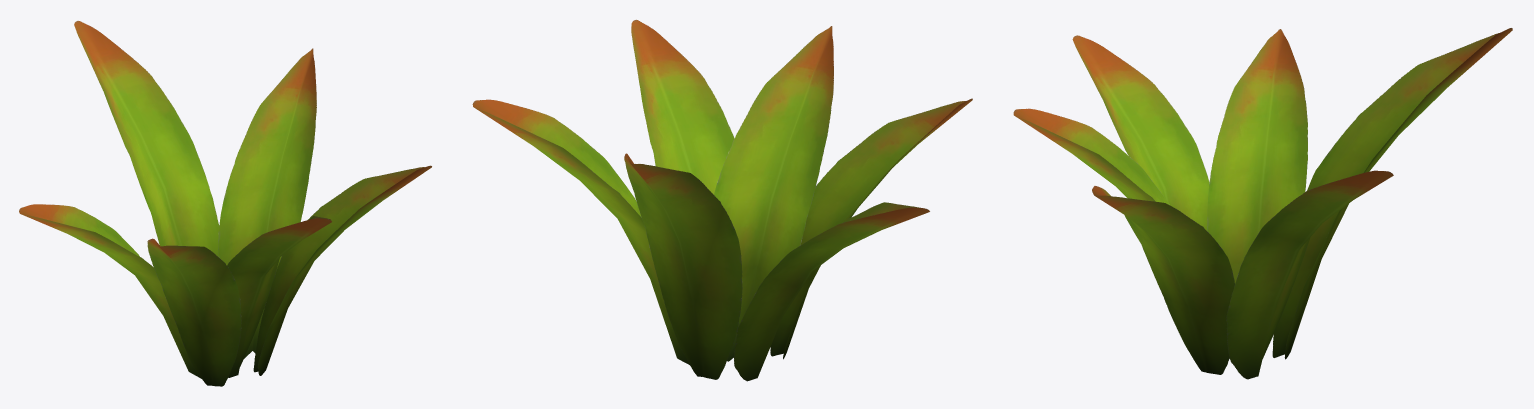
Rendered from Plant_1.gltf.
The picture shows the model from 3 angles, left to right: view 1: azimuth 30°, elevation 25°; view 2: azimuth 150°, elevation 25°; view 3: azimuth 270°, elevation 25°; orthographic projection. The views are drawn at different scales.
Parts seen in each view (by area): view 1: Plant_1; view 2: Plant_1; view 3: Plant_1.
Boxes of the visible parts, <box> form: Plant_1: <box>19,20,431,386</box>; Plant_1: <box>472,19,972,381</box>; Plant_1: <box>1013,28,1512,379</box>.
Bounding box in the file's own units: 1.27 × 1.01 × 1.39.
1 material, 1 textured.
